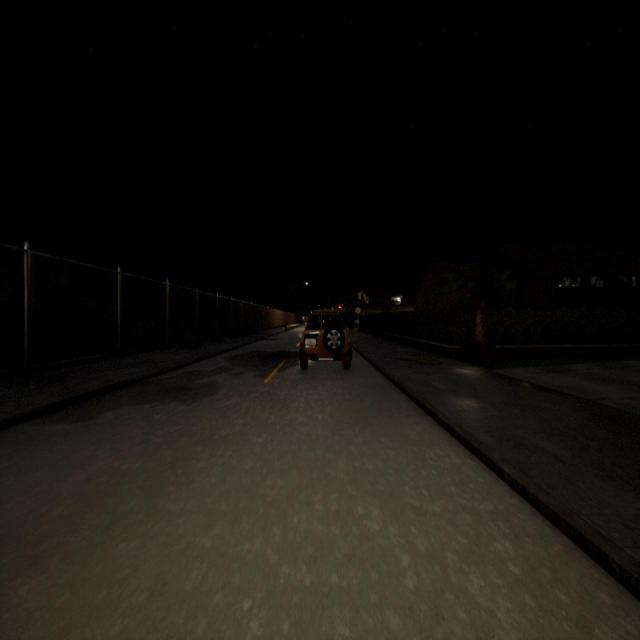Vehicle: (299, 310, 352, 369)
traffic_light: (338, 305, 342, 311)
